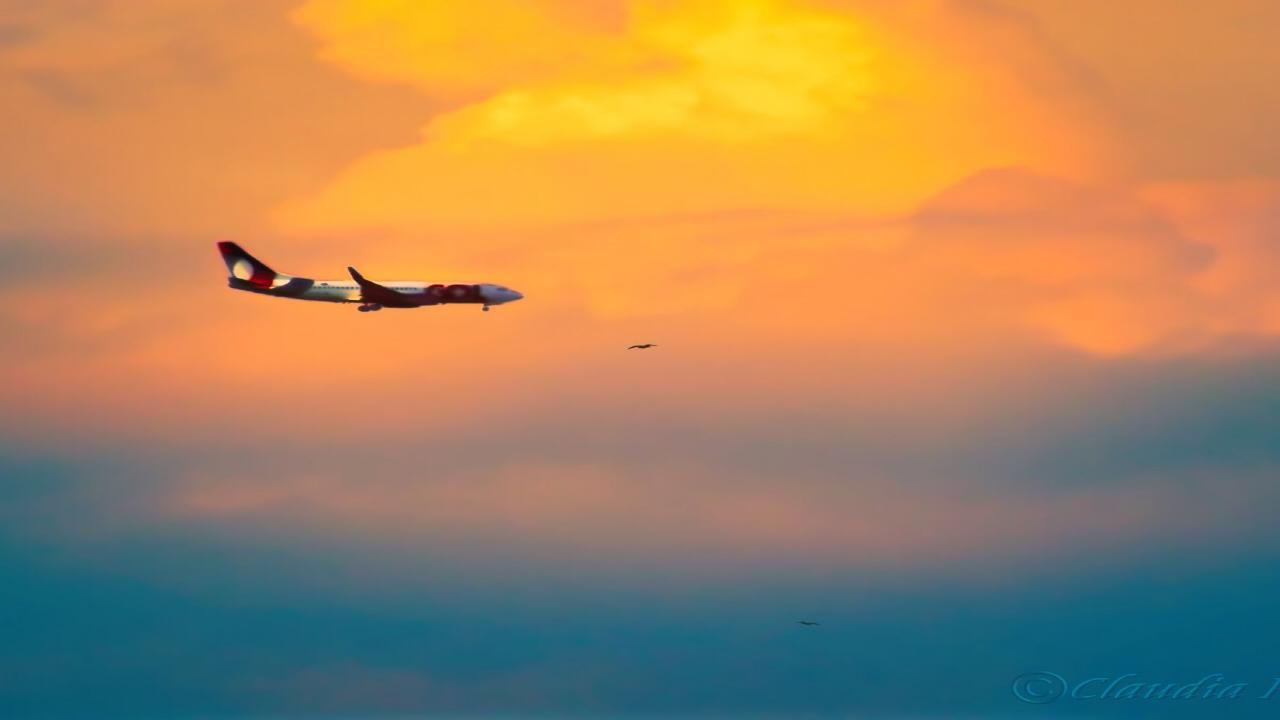Airplane: (182, 225, 560, 332)
